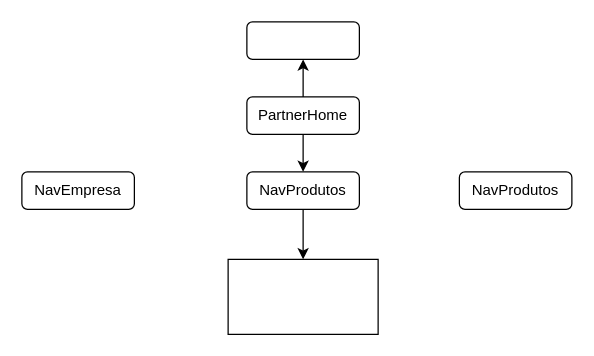
This 594x356 diagram has some shape labels left out. Here are the shapes that lost their labels. From the top down, the centre of each, then its label:
(x=302, y=40): Cadastro
(x=302, y=296): Apertadeiras Lixadeiras Esmerilhadeiras
